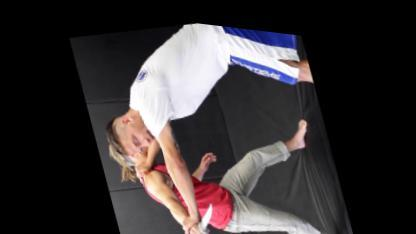knife: (179, 193, 222, 233)
